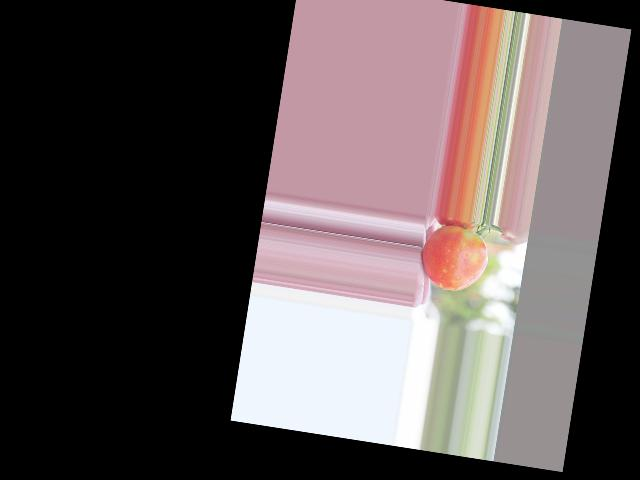tomato: (417, 222, 492, 295)
